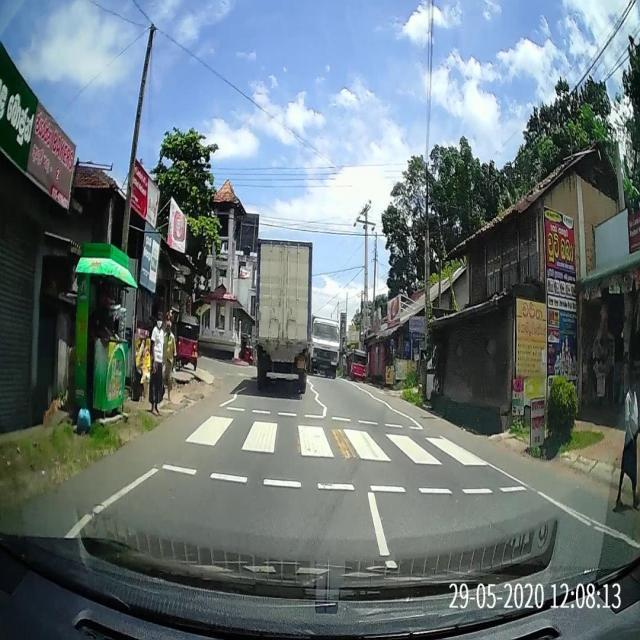Crosswalk: (150, 403, 544, 499)
